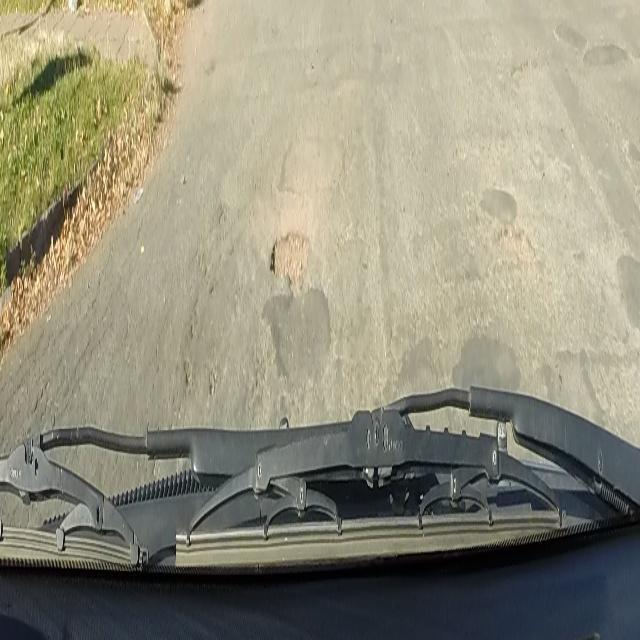pothole: (268, 218, 312, 292)
